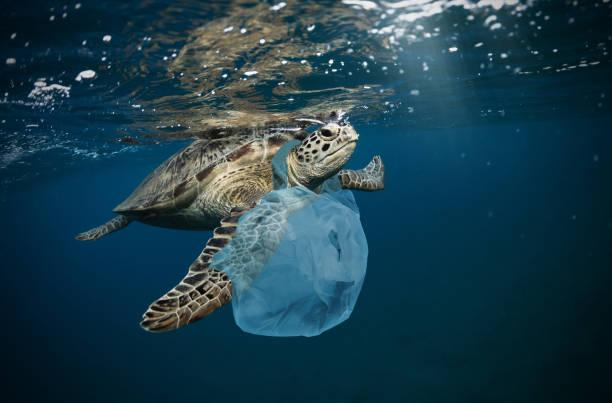LDPE: (212, 181, 370, 338)
